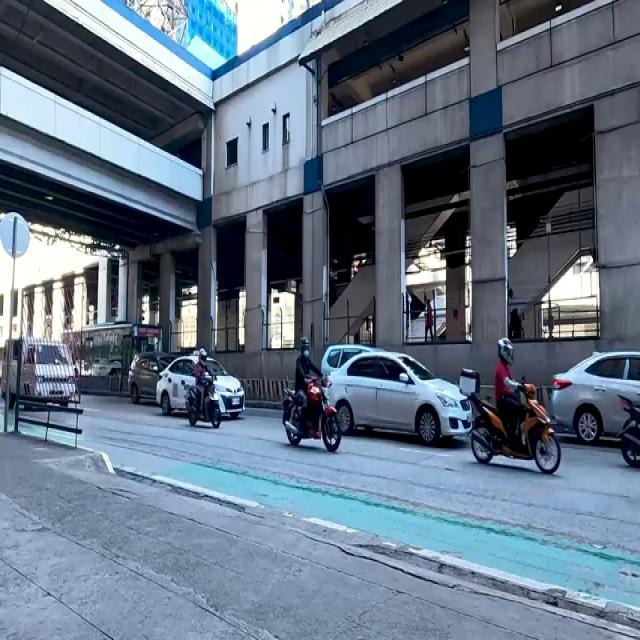bus: (64, 322, 162, 393)
car: (328, 346, 469, 444), (559, 353, 640, 447), (3, 340, 82, 404), (159, 360, 246, 413)
motorcycle: (480, 333, 552, 478), (274, 330, 341, 463), (183, 351, 223, 437)
